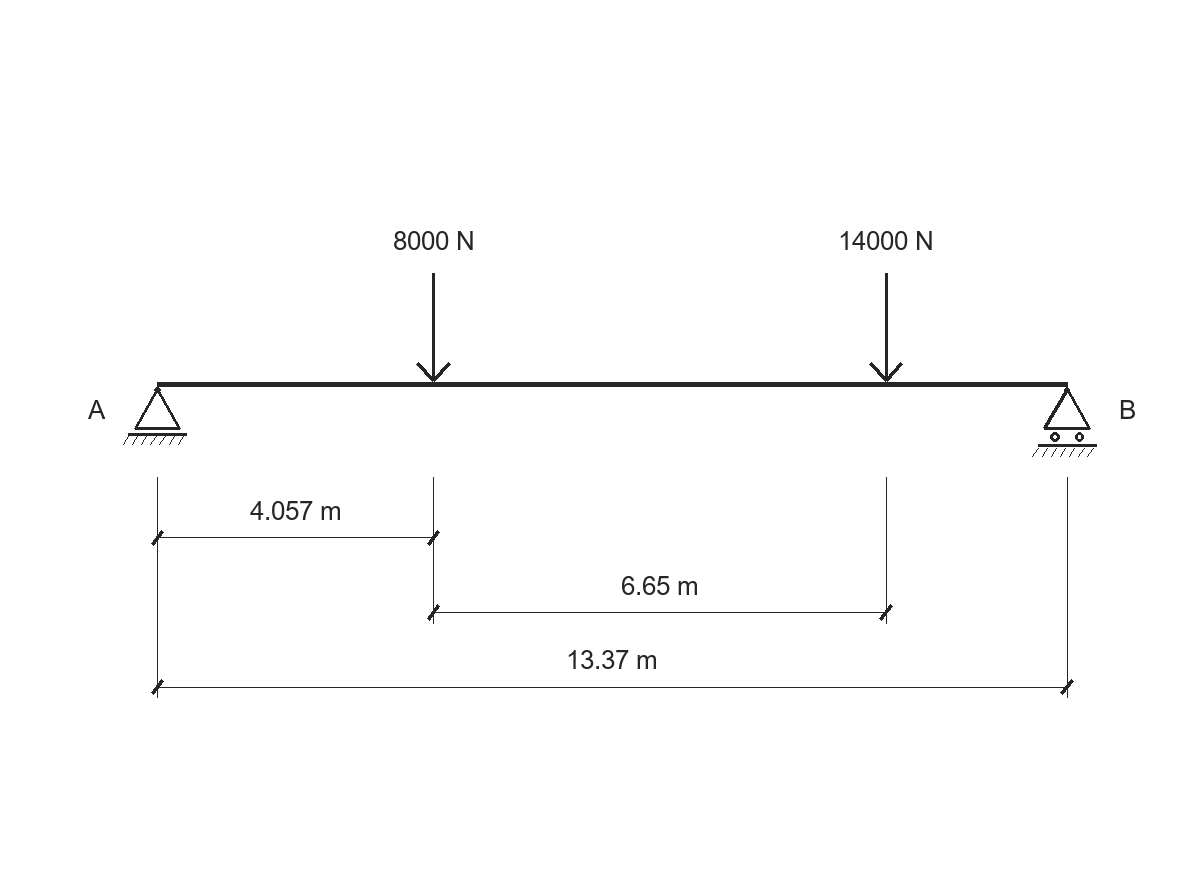pin_support: (123, 387, 187, 445)
point_load: (416, 273, 451, 382), (869, 273, 903, 382)
roller_support: (1032, 387, 1097, 457)
